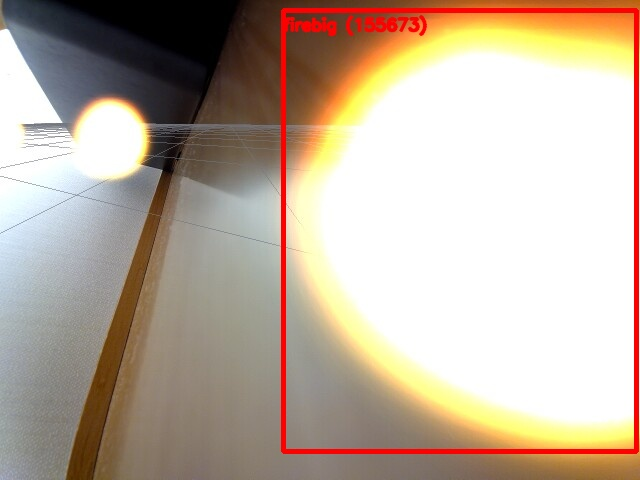firebig: (283, 10, 636, 451)
